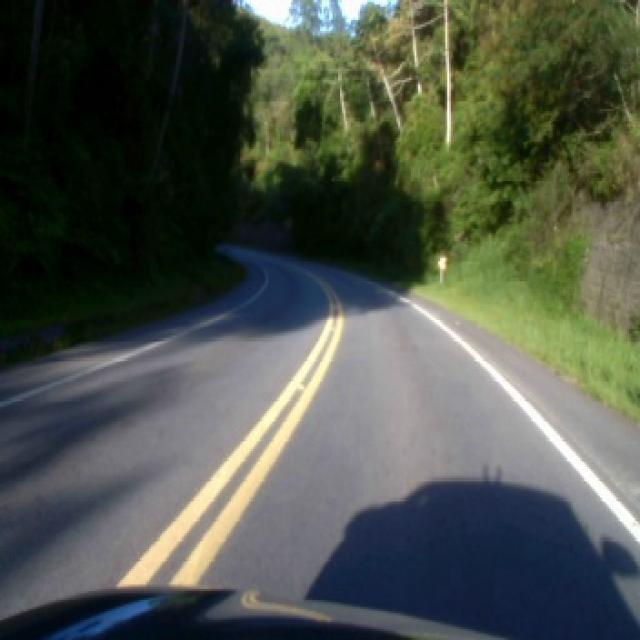Poth-hole: (294, 380, 304, 387)
